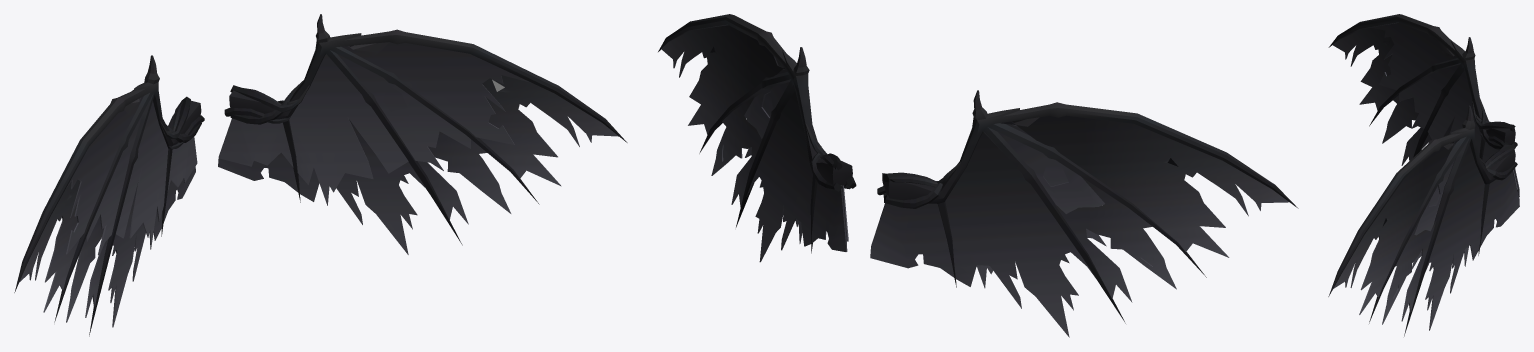
The picture shows the model from 3 angles, left to right: view 1: azimuth 30°, elevation 25°; view 2: azimuth 150°, elevation 25°; view 3: azimuth 270°, elevation 25°; orthographic projection. The views are drawn at different scales.
Parts seen in each view (by area): view 1: model; view 2: model; view 3: model.
Part boxes in pixels (x1,y1,x2,y2): model: [14, 14, 627, 336]; model: [658, 14, 1298, 337]; model: [1328, 14, 1519, 336].
Size of the model in its own units: 9.61 by 3.57 by 3.12.
1 material, 1 textured.
